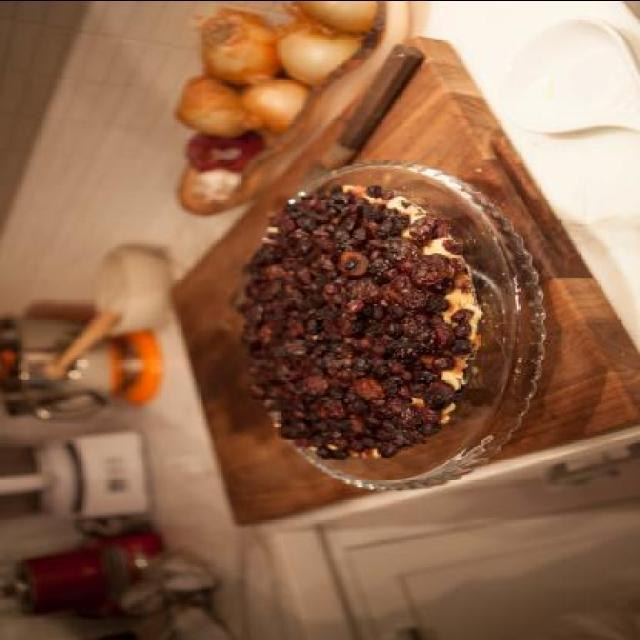Cake: (234, 184, 480, 462)
